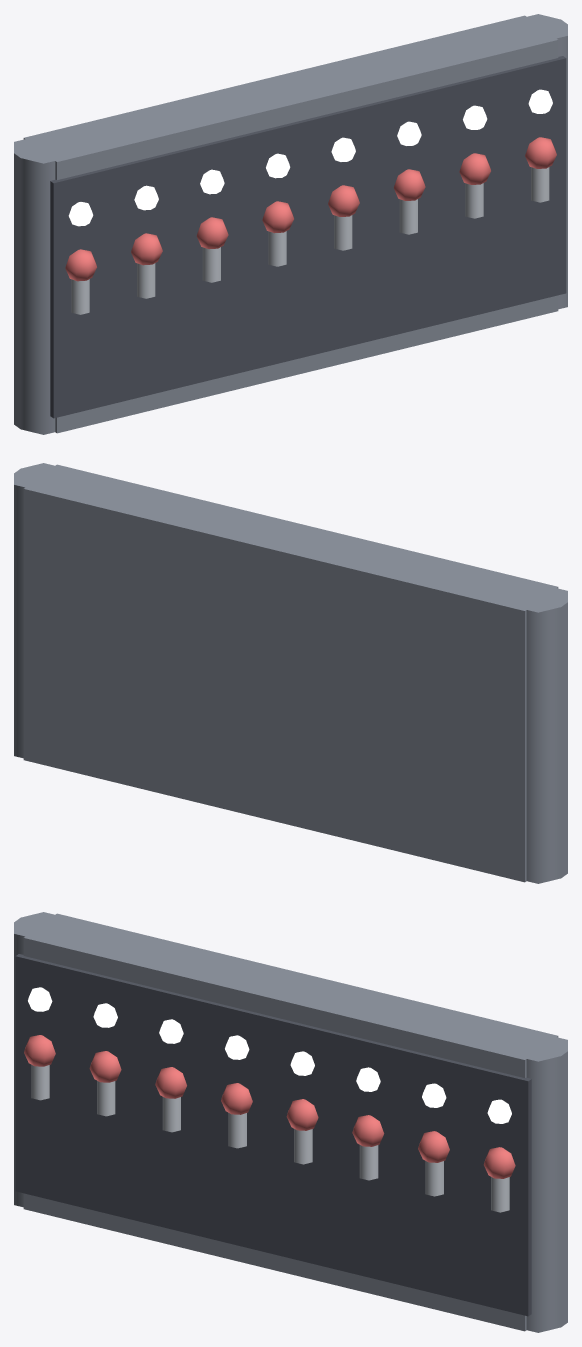
Rendered from prop_toggle_panel.glb.
The picture shows the model from 3 angles, top to bottom: view 1: azimuth 30°, elevation 25°; view 2: azimuth 150°, elevation 25°; view 3: azimuth 330°, elevation 25°; orthographic projection.
Parts seen in each view (by area): view 1: prop_toggle_panel, toggle_3, toggle_8, toggle_5, toggle_6, toggle_7, toggle_1, toggle_2, toggle_4; view 2: prop_toggle_panel; view 3: prop_toggle_panel, toggle_6, toggle_8, toggle_5, toggle_7, toggle_1, toggle_2, toggle_3, toggle_4.
Part boxes in pixels (x1=…): prop_toggle_panel: x1=14, y1=14, x2=567, y2=434; toggle_3: x1=196, y1=217, x2=228, y2=282; toggle_8: x1=525, y1=137, x2=556, y2=202; toggle_5: x1=328, y1=185, x2=359, y2=250; toggle_6: x1=393, y1=169, x2=425, y2=234; toggle_7: x1=459, y1=153, x2=490, y2=218; toggle_1: x1=65, y1=249, x2=96, y2=314; toggle_2: x1=131, y1=233, x2=162, y2=298; toggle_4: x1=262, y1=201, x2=293, y2=266; prop_toggle_panel: x1=14, y1=463, x2=567, y2=883; prop_toggle_panel: x1=14, y1=912, x2=567, y2=1332; toggle_6: x1=352, y1=1115, x2=384, y2=1180; toggle_8: x1=483, y1=1147, x2=515, y2=1212; toggle_5: x1=286, y1=1099, x2=318, y2=1164; toggle_7: x1=418, y1=1131, x2=449, y2=1196; toggle_1: x1=24, y1=1035, x2=55, y2=1100; toggle_2: x1=89, y1=1051, x2=121, y2=1116; toggle_3: x1=155, y1=1067, x2=186, y2=1132; toggle_4: x1=221, y1=1083, x2=252, y2=1148.
Size of the model in its own units: 0.95 by 0.45 by 0.136.
